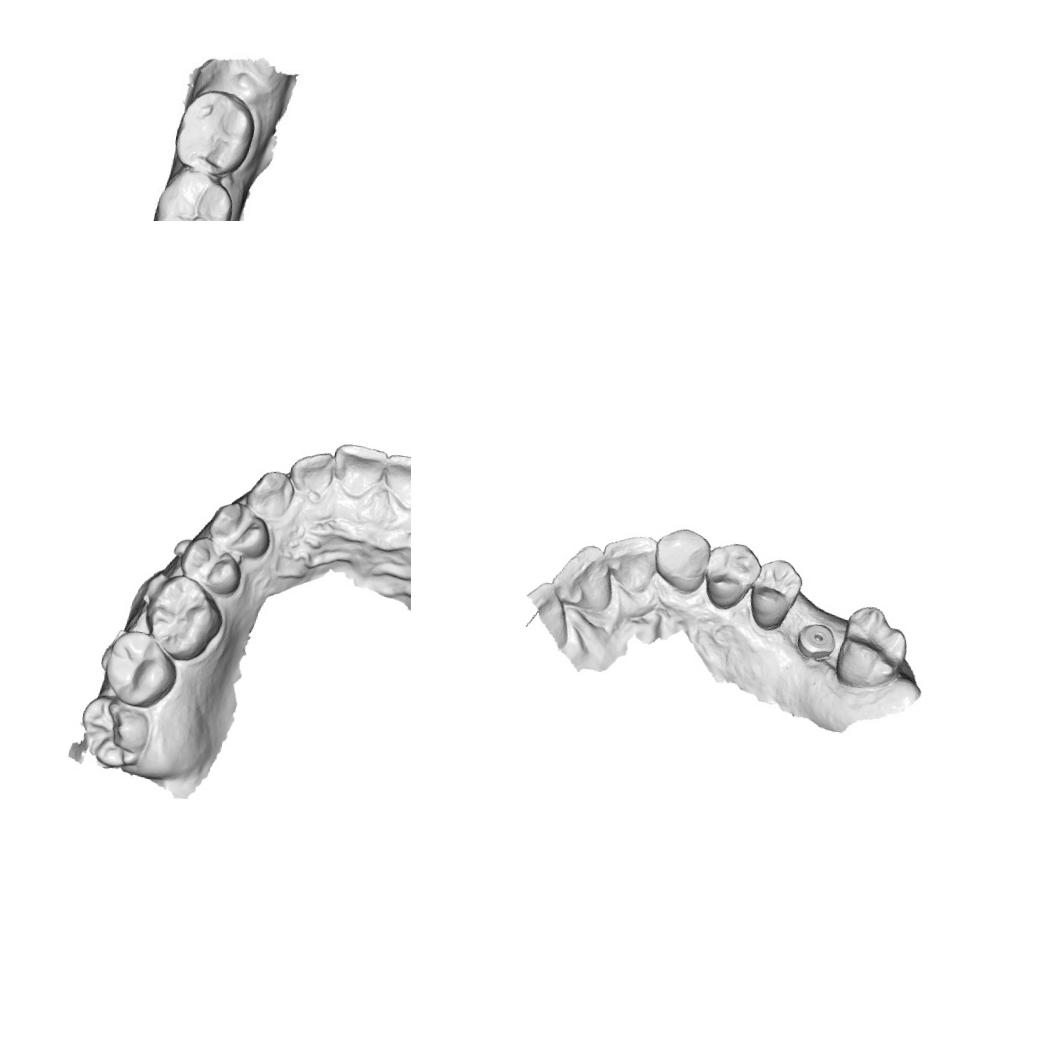canine: (648, 522, 716, 598), (242, 466, 298, 526)
implant: (792, 618, 840, 664)
incisor: (546, 539, 621, 615), (596, 528, 662, 598), (518, 577, 577, 650), (327, 438, 390, 501), (285, 445, 336, 498), (378, 449, 411, 514)
molar: (134, 569, 229, 667), (831, 600, 914, 696), (94, 626, 184, 713), (74, 692, 155, 774), (172, 92, 253, 171), (149, 161, 233, 221)
premolar: (699, 537, 766, 616), (744, 554, 807, 634), (204, 497, 277, 563), (174, 533, 246, 599)
